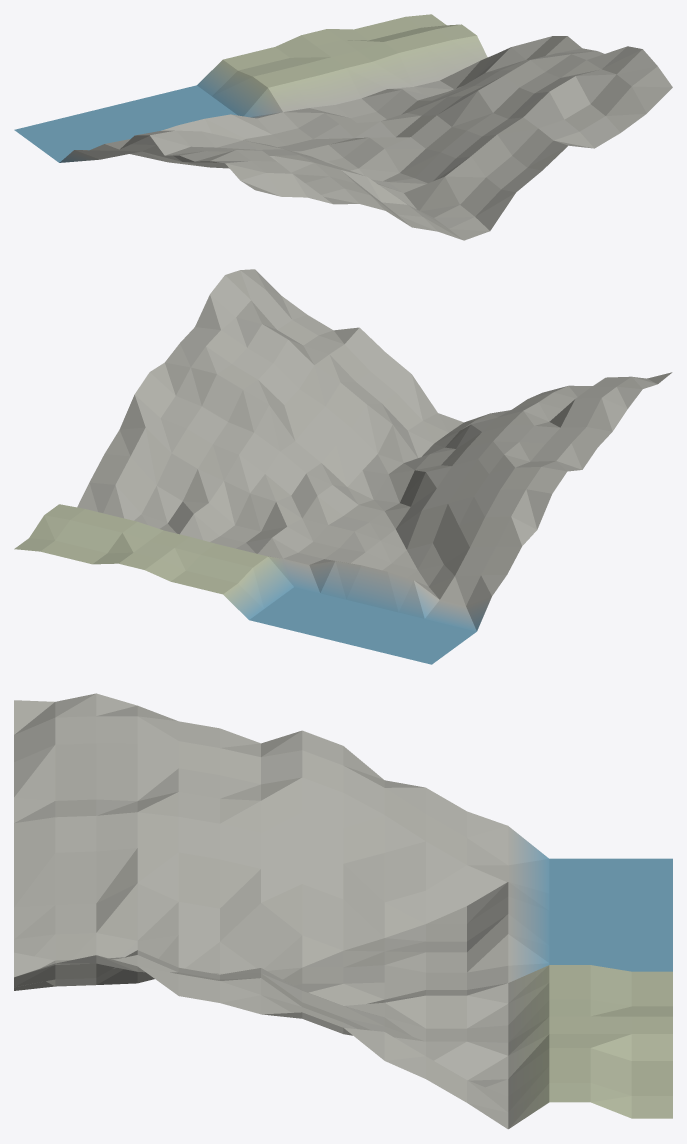
The picture shows the model from 3 angles, top to bottom: view 1: azimuth 30°, elevation 25°; view 2: azimuth 150°, elevation 25°; view 3: azimuth 270°, elevation 25°; orthographic projection. The views are drawn at different scales.
Bounding box in the file's own units: 32 × 9.76 × 32.
